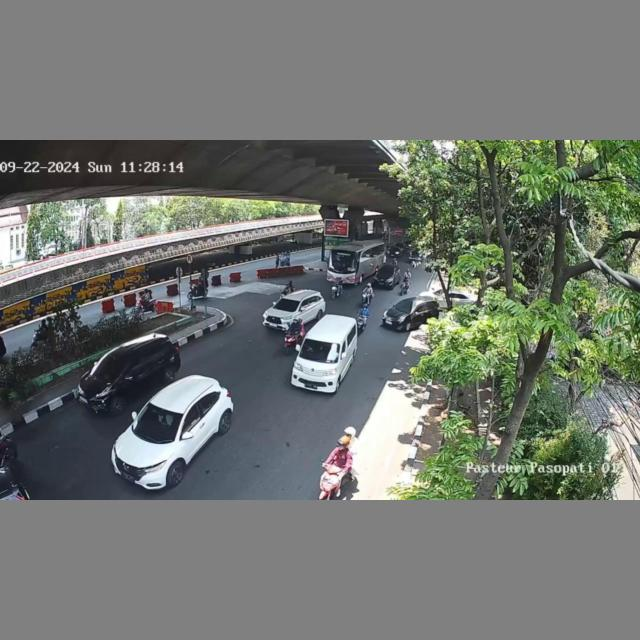windshield: (130, 402, 184, 444), (85, 354, 127, 382), (298, 340, 341, 366), (272, 299, 299, 317)
